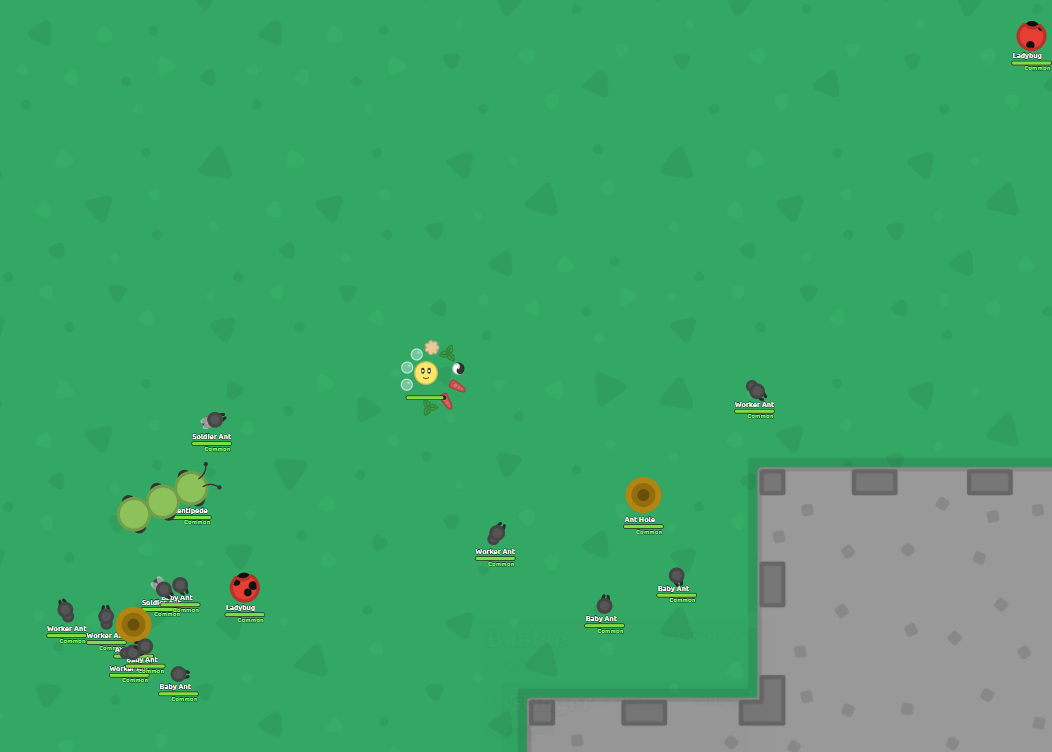Ant Hole: (624, 476, 663, 515), (116, 606, 152, 642)
Baby Ant: (168, 664, 192, 684), (667, 566, 687, 589), (594, 592, 614, 615), (171, 575, 191, 597), (132, 638, 155, 655)
Centipede: (170, 469, 209, 507), (116, 494, 149, 535), (147, 482, 179, 522)
Ladybug: (227, 571, 262, 604), (1015, 20, 1048, 54)
Soldier Ant: (148, 575, 174, 602), (199, 409, 228, 431)
Worker Ant: (485, 521, 508, 547), (745, 378, 769, 402), (55, 597, 76, 624), (97, 604, 115, 631), (119, 645, 139, 662)
